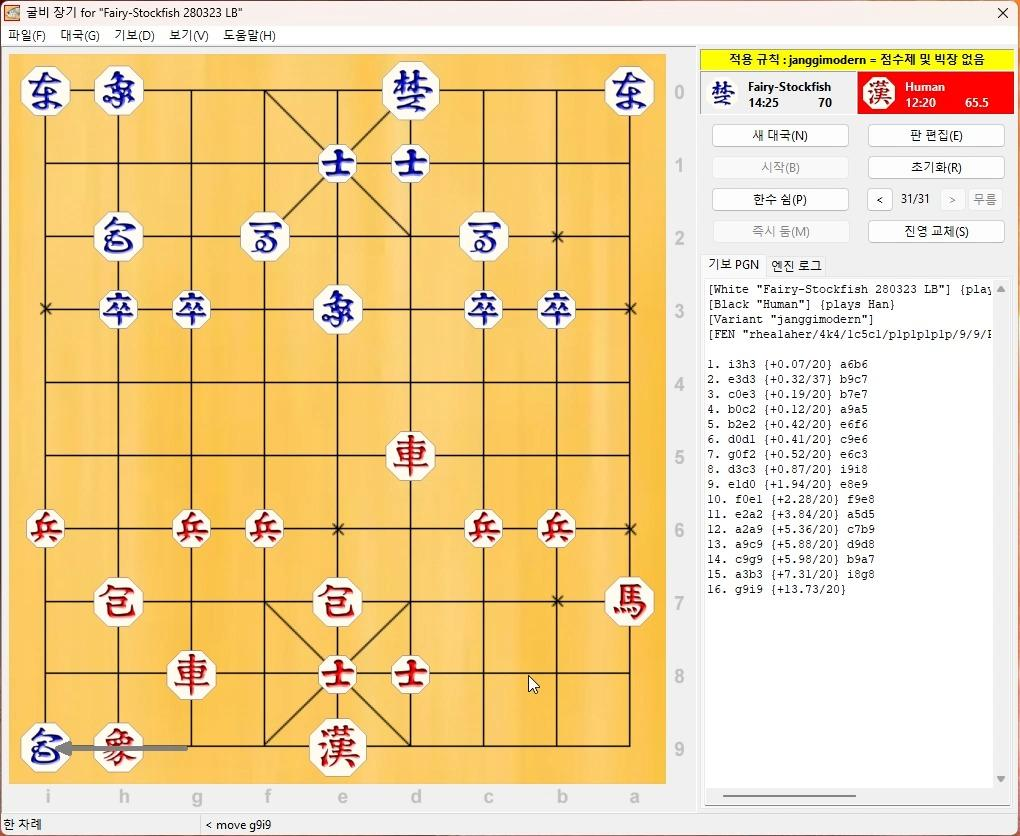cha_green: (605, 67, 656, 114), (21, 70, 69, 114)
cha_red: (386, 433, 435, 479), (166, 653, 216, 698)
jol_green: (466, 292, 505, 328), (171, 292, 210, 328), (538, 291, 578, 326), (98, 293, 137, 328)
jol_red: (170, 509, 214, 549), (463, 510, 502, 548), (537, 512, 579, 547), (243, 512, 283, 547), (25, 512, 65, 547)
ma_green: (239, 212, 290, 263), (458, 213, 510, 263)
ma_red: (604, 579, 655, 624)
po_green: (96, 214, 146, 260), (21, 725, 72, 769)
po_red: (314, 577, 364, 623), (95, 580, 144, 624)
sa_green: (319, 145, 359, 184), (394, 144, 434, 183)
sa_red: (389, 657, 431, 694), (318, 655, 358, 691)
sang_green: (314, 286, 364, 335), (95, 68, 144, 114)
sang_red: (94, 724, 145, 770)
wang_green: (382, 64, 439, 118)
wang_red: (308, 720, 367, 773)
